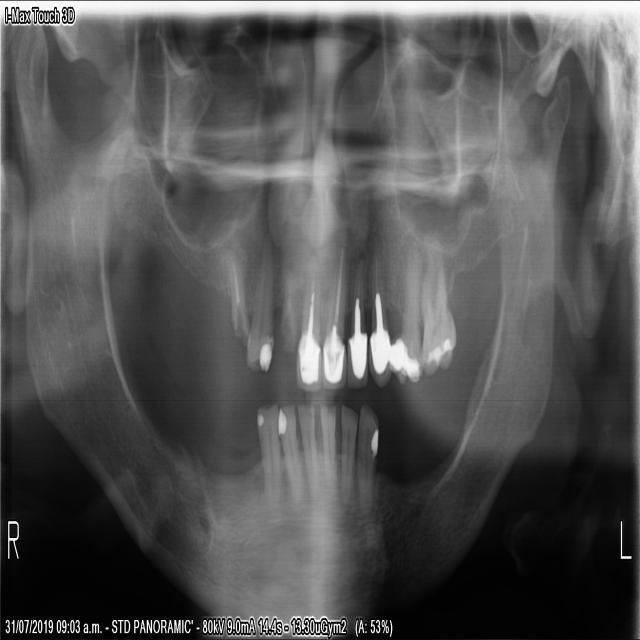LCD: (356, 405, 378, 510)
LCU: (370, 248, 391, 389)
LID: (339, 407, 357, 502), (320, 402, 338, 484)
LIU: (321, 252, 348, 392), (345, 255, 368, 392)
LMU: (421, 242, 457, 380)
LPMU: (389, 242, 422, 389)
RCD: (254, 399, 283, 500)
RCU: (242, 240, 273, 375)
RID: (277, 403, 307, 507), (296, 403, 318, 502)
RIU: (295, 245, 323, 394), (277, 249, 299, 355)
RPMU: (222, 240, 248, 342)
